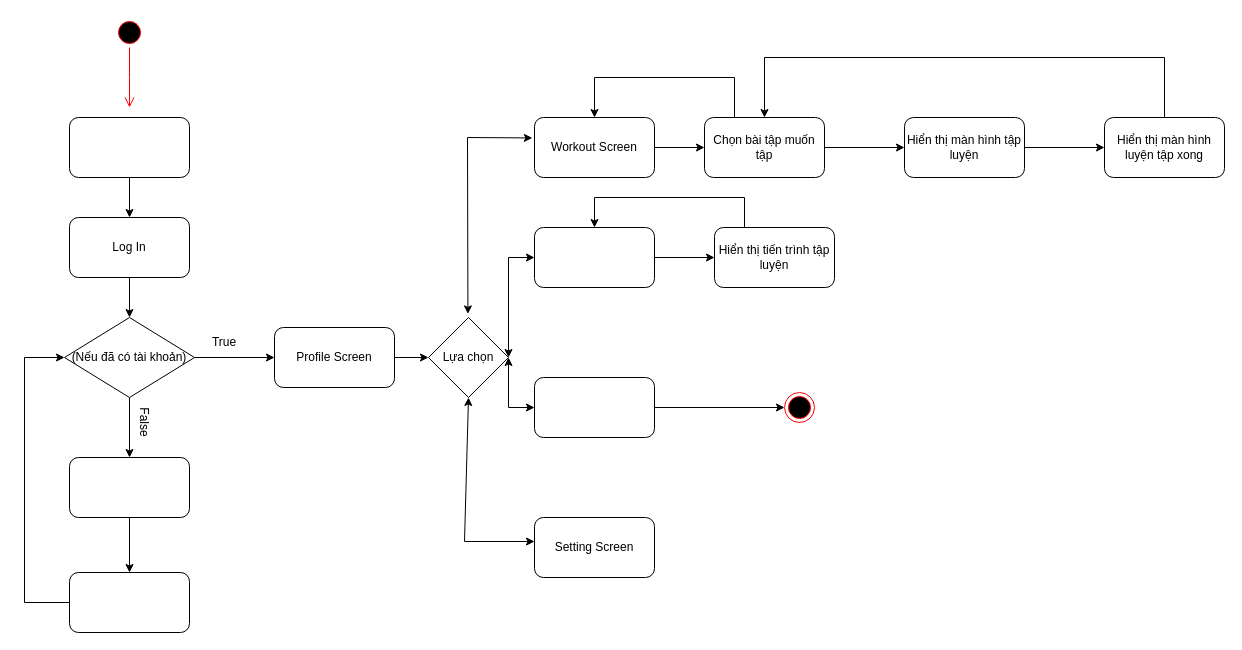
The diagram is 1242 pixels wide and 650 high, and some of its shapes have lost their labels. The centre of each missing label's shape, as x and y in pixels:
"Get Started (Màn hình welcome)" belongs at point (129, 147).
"Progress Screen" belongs at point (594, 257).
"Quit Screen" belongs at point (594, 407).
"Sign Up Screen" belongs at point (129, 487).
"Điền thông tin ở màn hình Sign Up" belongs at point (129, 602).
